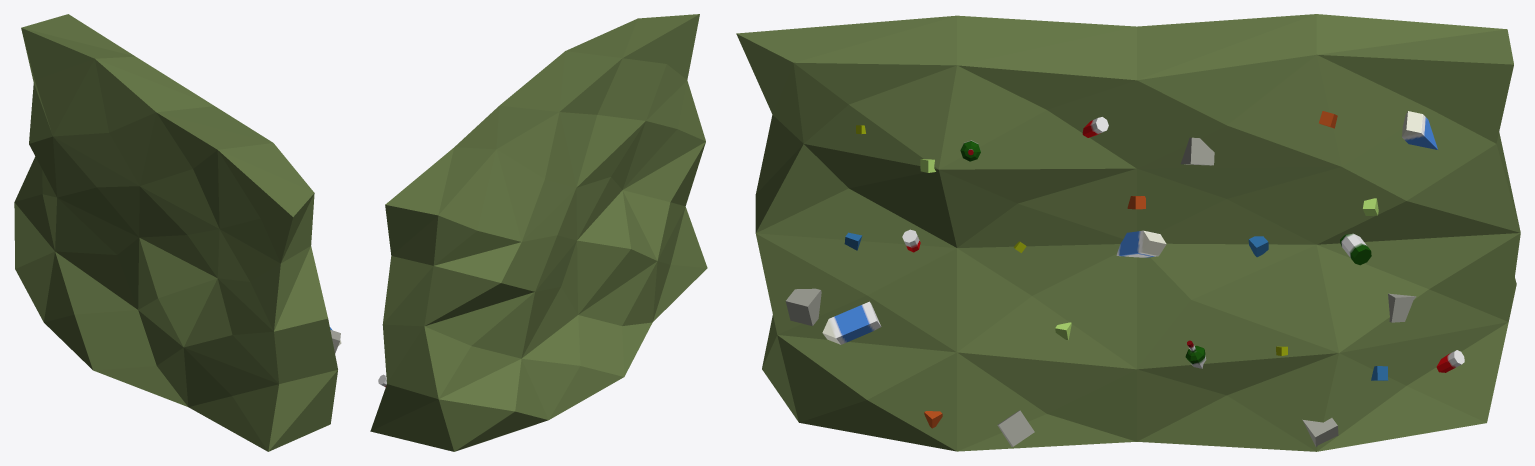
The model's file is PollutionBlockade.fbx.
The picture shows the model from 3 angles, left to right: view 1: azimuth 30°, elevation 25°; view 2: azimuth 150°, elevation 25°; view 3: azimuth 270°, elevation 25°; orthographic projection. The views are drawn at different scales.
Parts seen in each view (by area): view 1: Cube; view 2: Cube; view 3: Cube.
Part boxes in pixels (x1,y1,x2,y2): Cube: (14,14,341,451); Cube: (370,14,707,451); Cube: (736,14,1520,451).
Size of the model in its own units: 809 by 1182 by 2264.
1 material, 1 textured.
